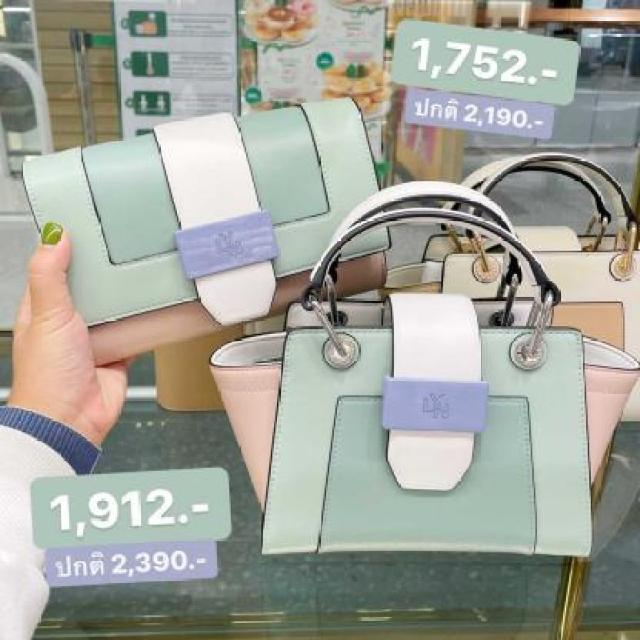Bag: (249, 162, 606, 604), (0, 80, 434, 385)
